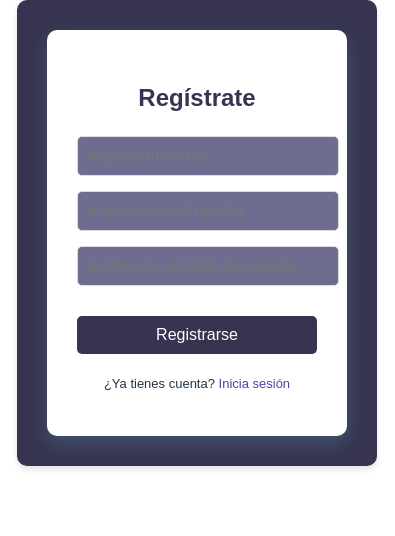
Test case: Muestra mensaje exitoso al registrarse correctamente
The width and height of the screenshot is (395, 536).
Note: son los datos que se van a ingresar
Type "quispeaguilar.bel3n@gmail.com" into the field with placeholder "Ingresa tu correo" at (208, 156), box 77,136 -> 339,176
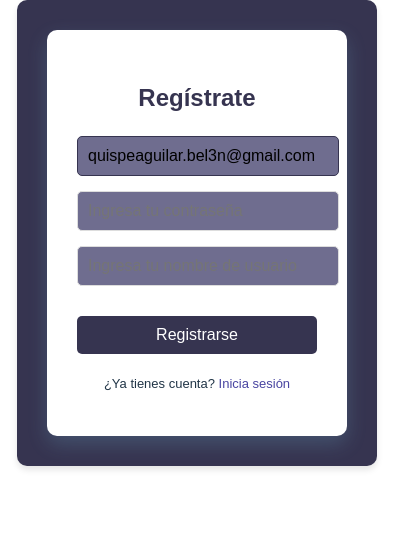
Type "yosoyaye" into the password field with placeholder "Ingresa tu contraseña" at (208, 211), box 77,191 -> 339,231
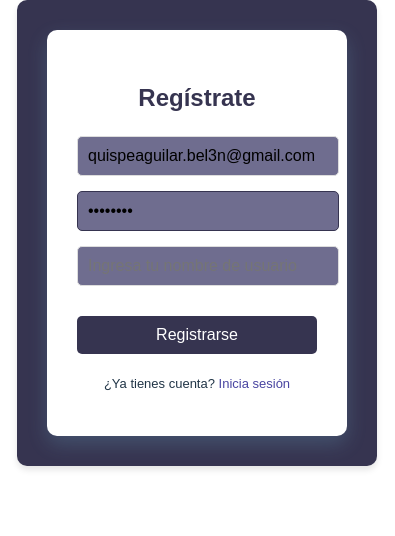
Type "Ayelen" into the field with placeholder "Ingresa tu nombre de usuario" at (208, 266), box 77,246 -> 339,286
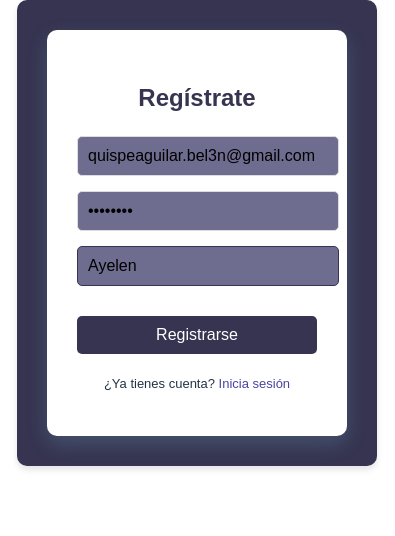
Click the button "Registrarse" at (197, 335), box 77,316 -> 317,354
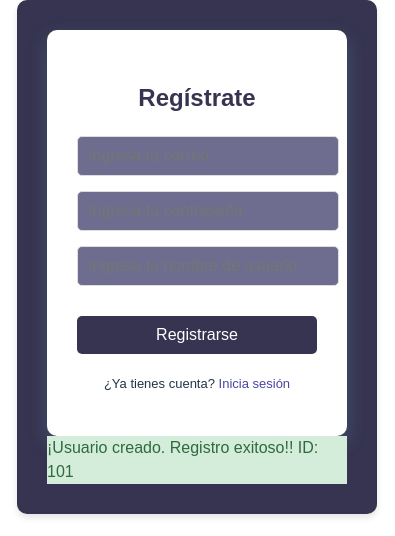
Check: the text "¡Usuario creado. Registro exitoso!! ID: 101" is shown, box 47,436 -> 347,484
